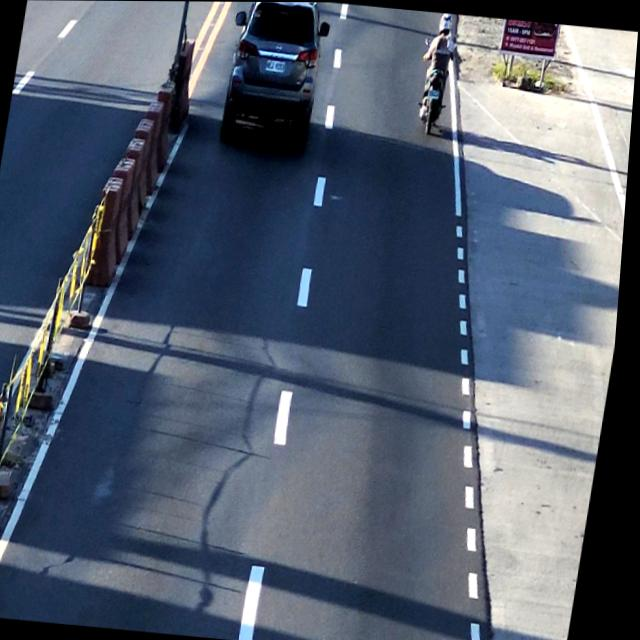Car: (214, 1, 329, 151)
License-Plate: (264, 54, 290, 72), (428, 87, 445, 101)
Motorcycle: (416, 11, 458, 137)
